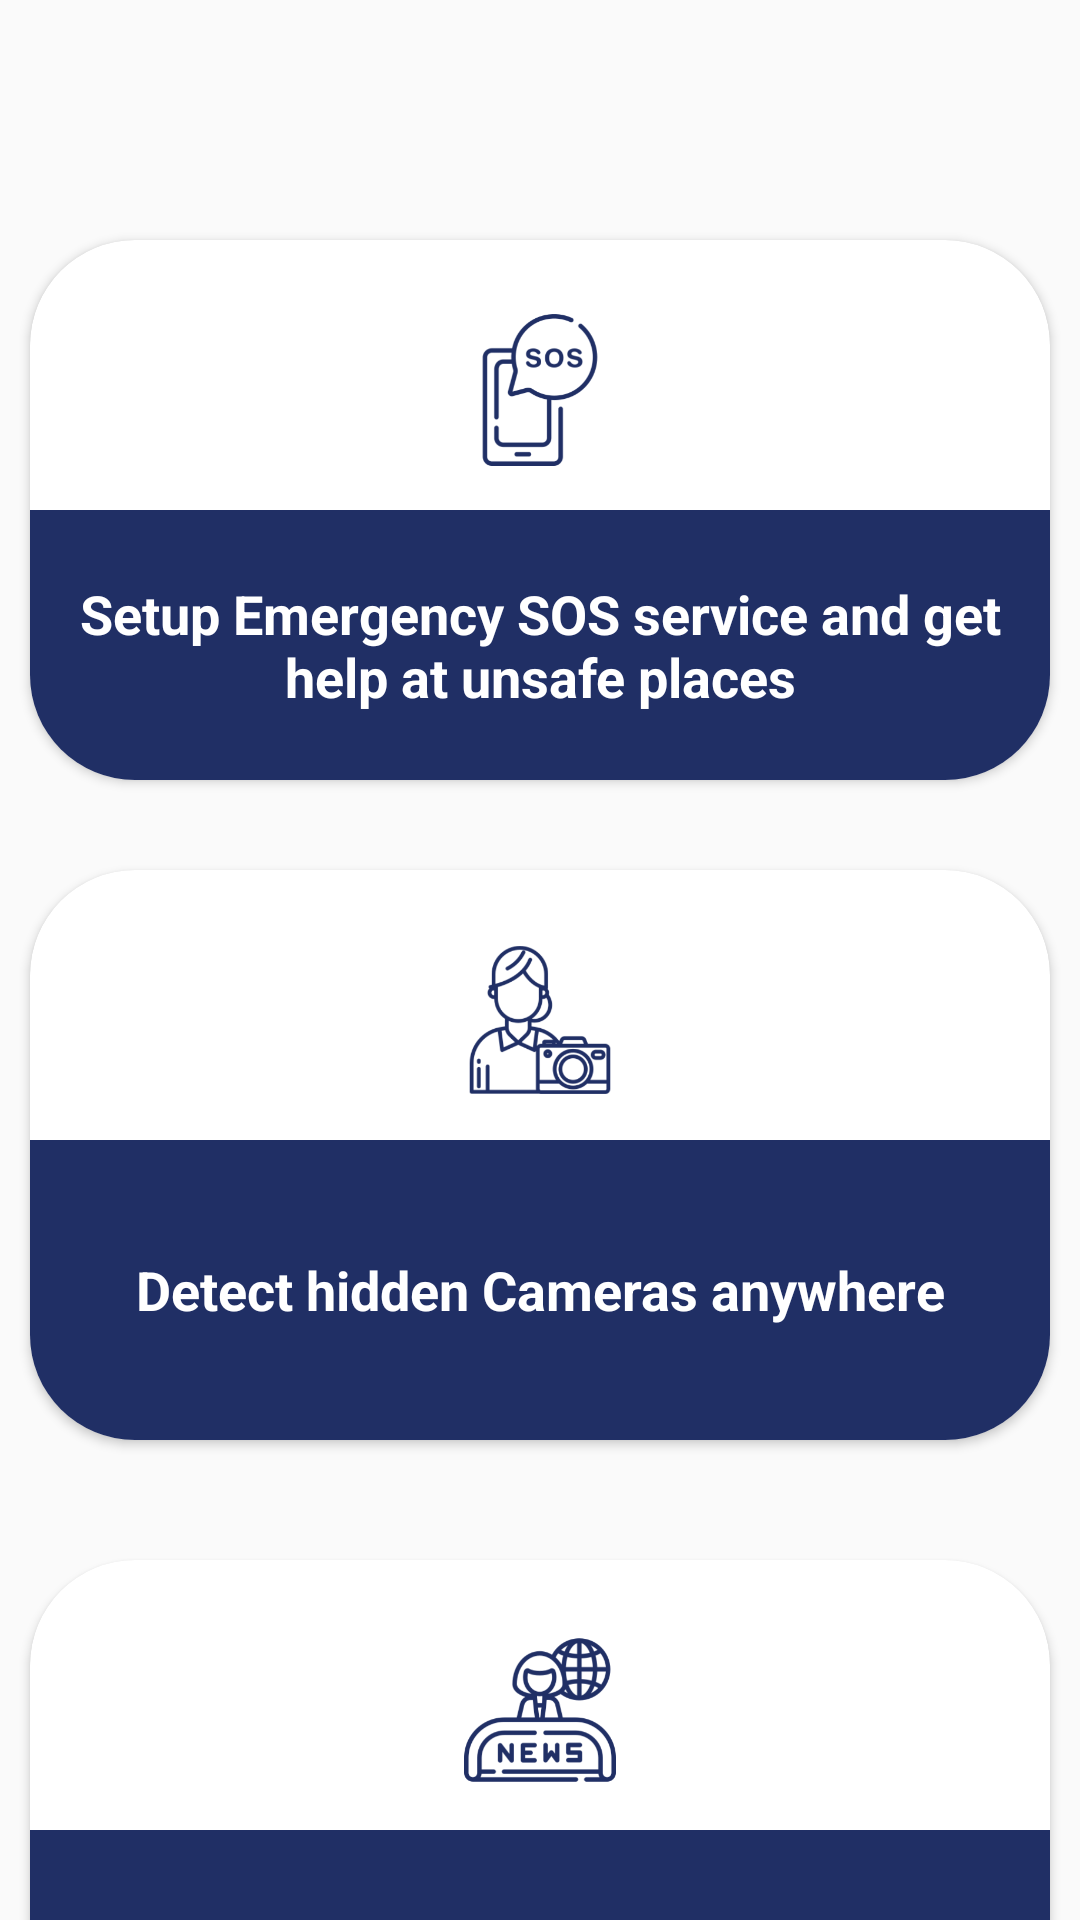

Named icons in this screenshot (1080 × 1920) and their bounding boxes, (x1, y1, x2, y2):
photographer: (469, 946, 611, 1094)
world news: (464, 1638, 616, 1782)
